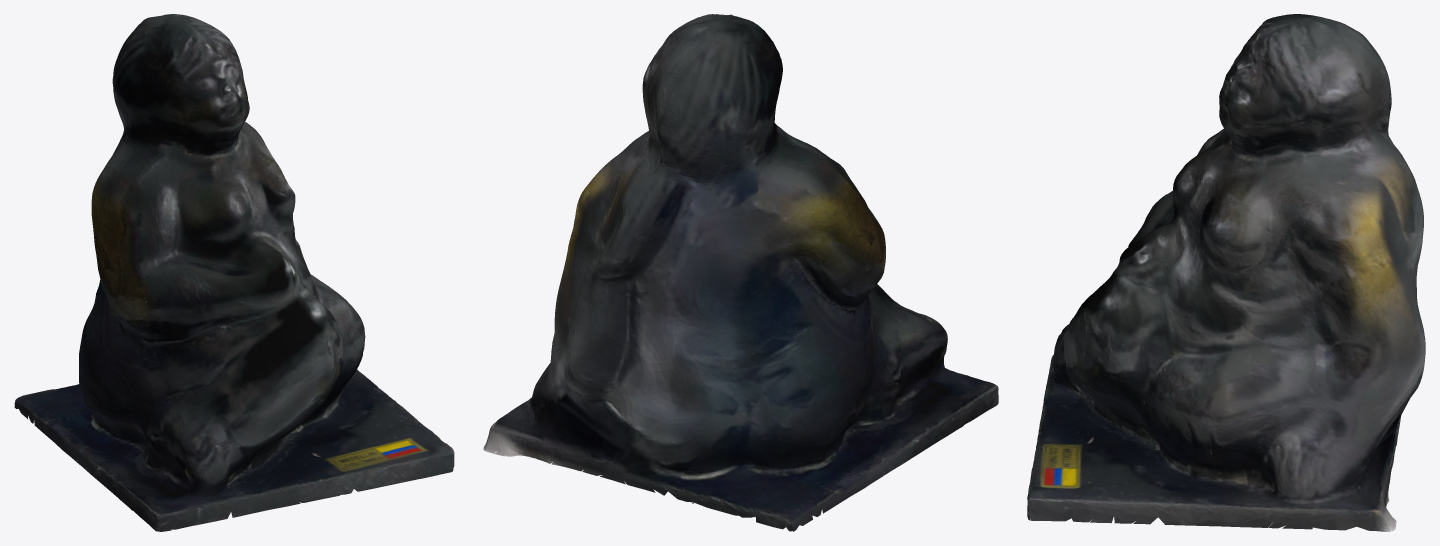
File: gordaBotero.glb
The picture shows the model from 3 angles, left to right: view 1: azimuth 30°, elevation 25°; view 2: azimuth 150°, elevation 25°; view 3: azimuth 270°, elevation 25°; orthographic projection. The views are drawn at different scales.
Bounding box in the file's own units: 0.1166 × 0.143 × 0.1219.
Materials: 1 (1 with a texture image).
